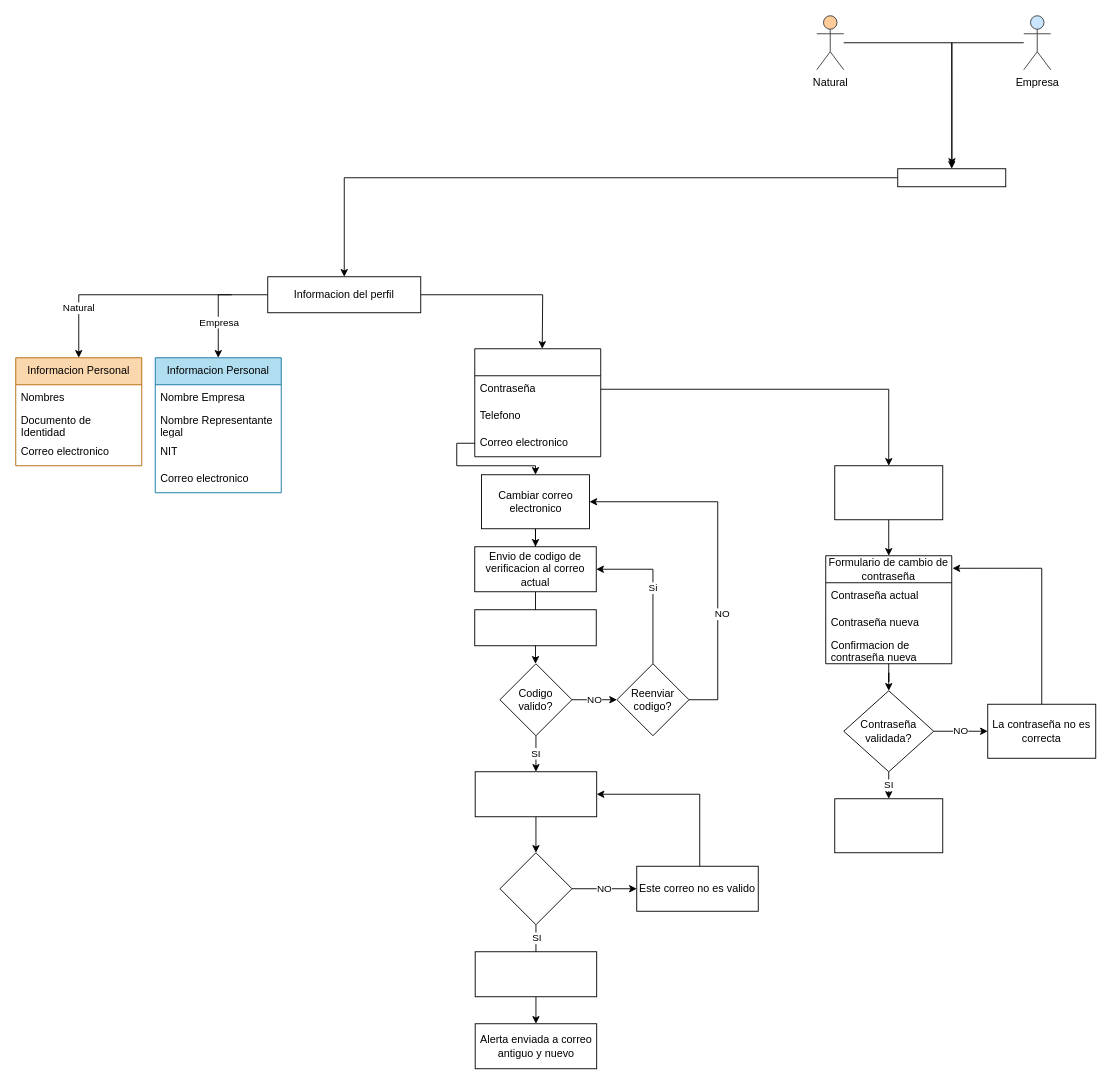
The diagram is 1112 pixels wide and 1085 high, and some of its shapes have lost their labels. Each missing label, with the box of its shape:
Cambiar contraseña: (834, 465, 943, 520)
Cambio de contraseña exitoso: (834, 798, 943, 853)
Cambio exitoso: (474, 951, 597, 997)
Correo valido?: (499, 852, 572, 925)
Digitar codigo: (474, 609, 596, 646)
Digitar nuevo correo: (474, 771, 597, 817)
Seguridad: (474, 348, 601, 457)
